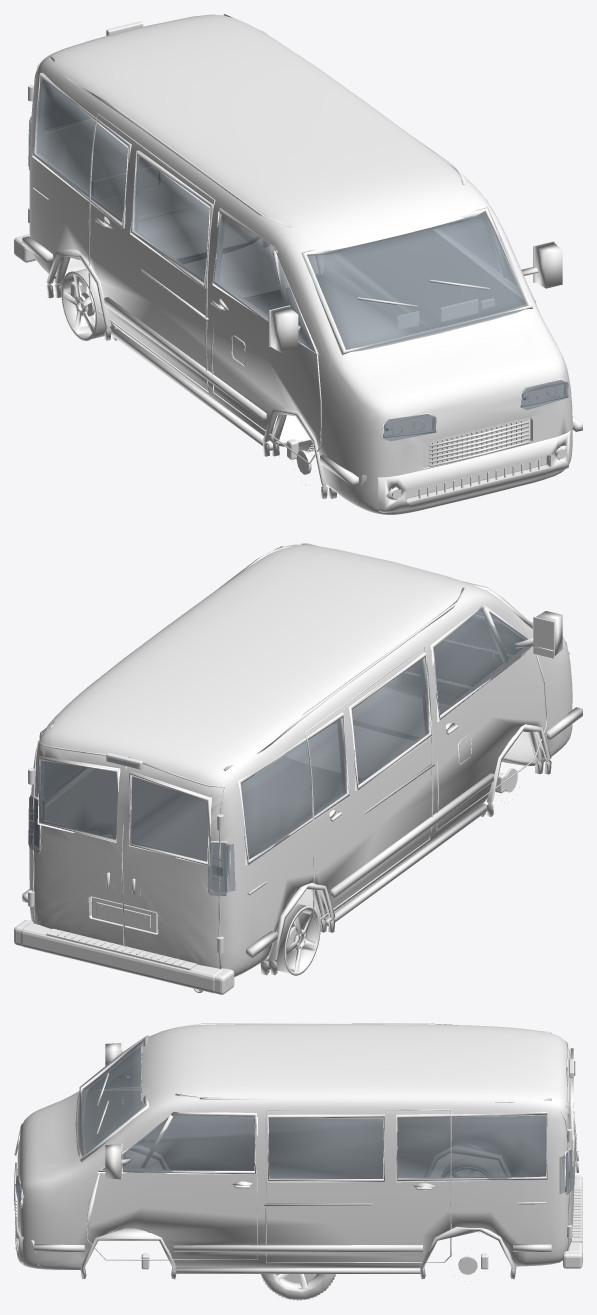
The model's file is van.glb.
3 views of the same model, one above another, from view 1: azimuth 30°, elevation 25°; view 2: azimuth 150°, elevation 25°; view 3: azimuth 270°, elevation 25° (orthographic). The views are drawn at different scales.
Visible parts, largest first — view 1: body; view 2: body; view 3: body, wheel.
Boxes of the visible parts, x1,y1,x2,y2 form: body: (14, 14, 582, 514); body: (14, 543, 582, 994); body: (14, 1023, 582, 1279); wheel: (260, 1274, 335, 1300).
Size of the model in its own units: 2.59 by 2.69 by 5.7.
